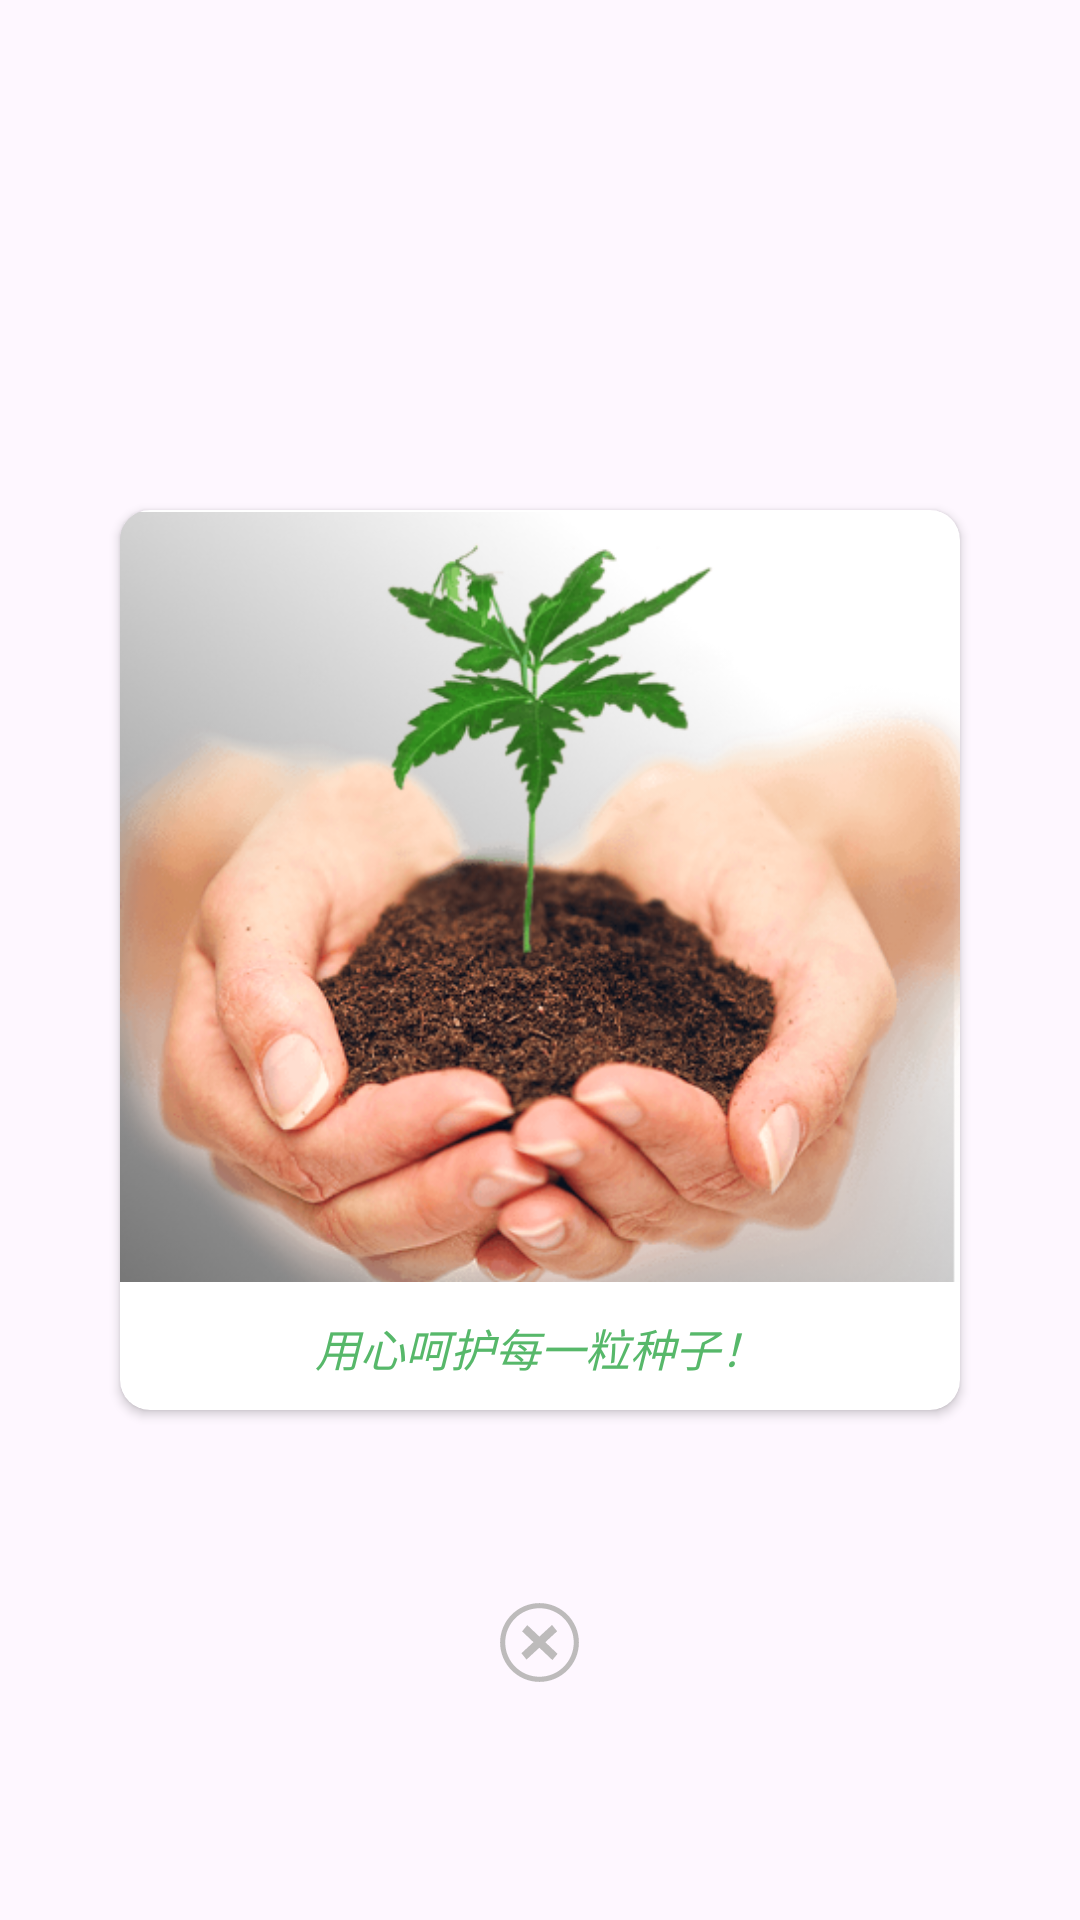

Icon bounding boxes for this 1080x1920 phone screenshot, format {"x1": x1, "y1": y1, "x2": x2, "y2": y2}:
cancel: {"x1": 500, "y1": 1603, "x2": 579, "y2": 1682}
